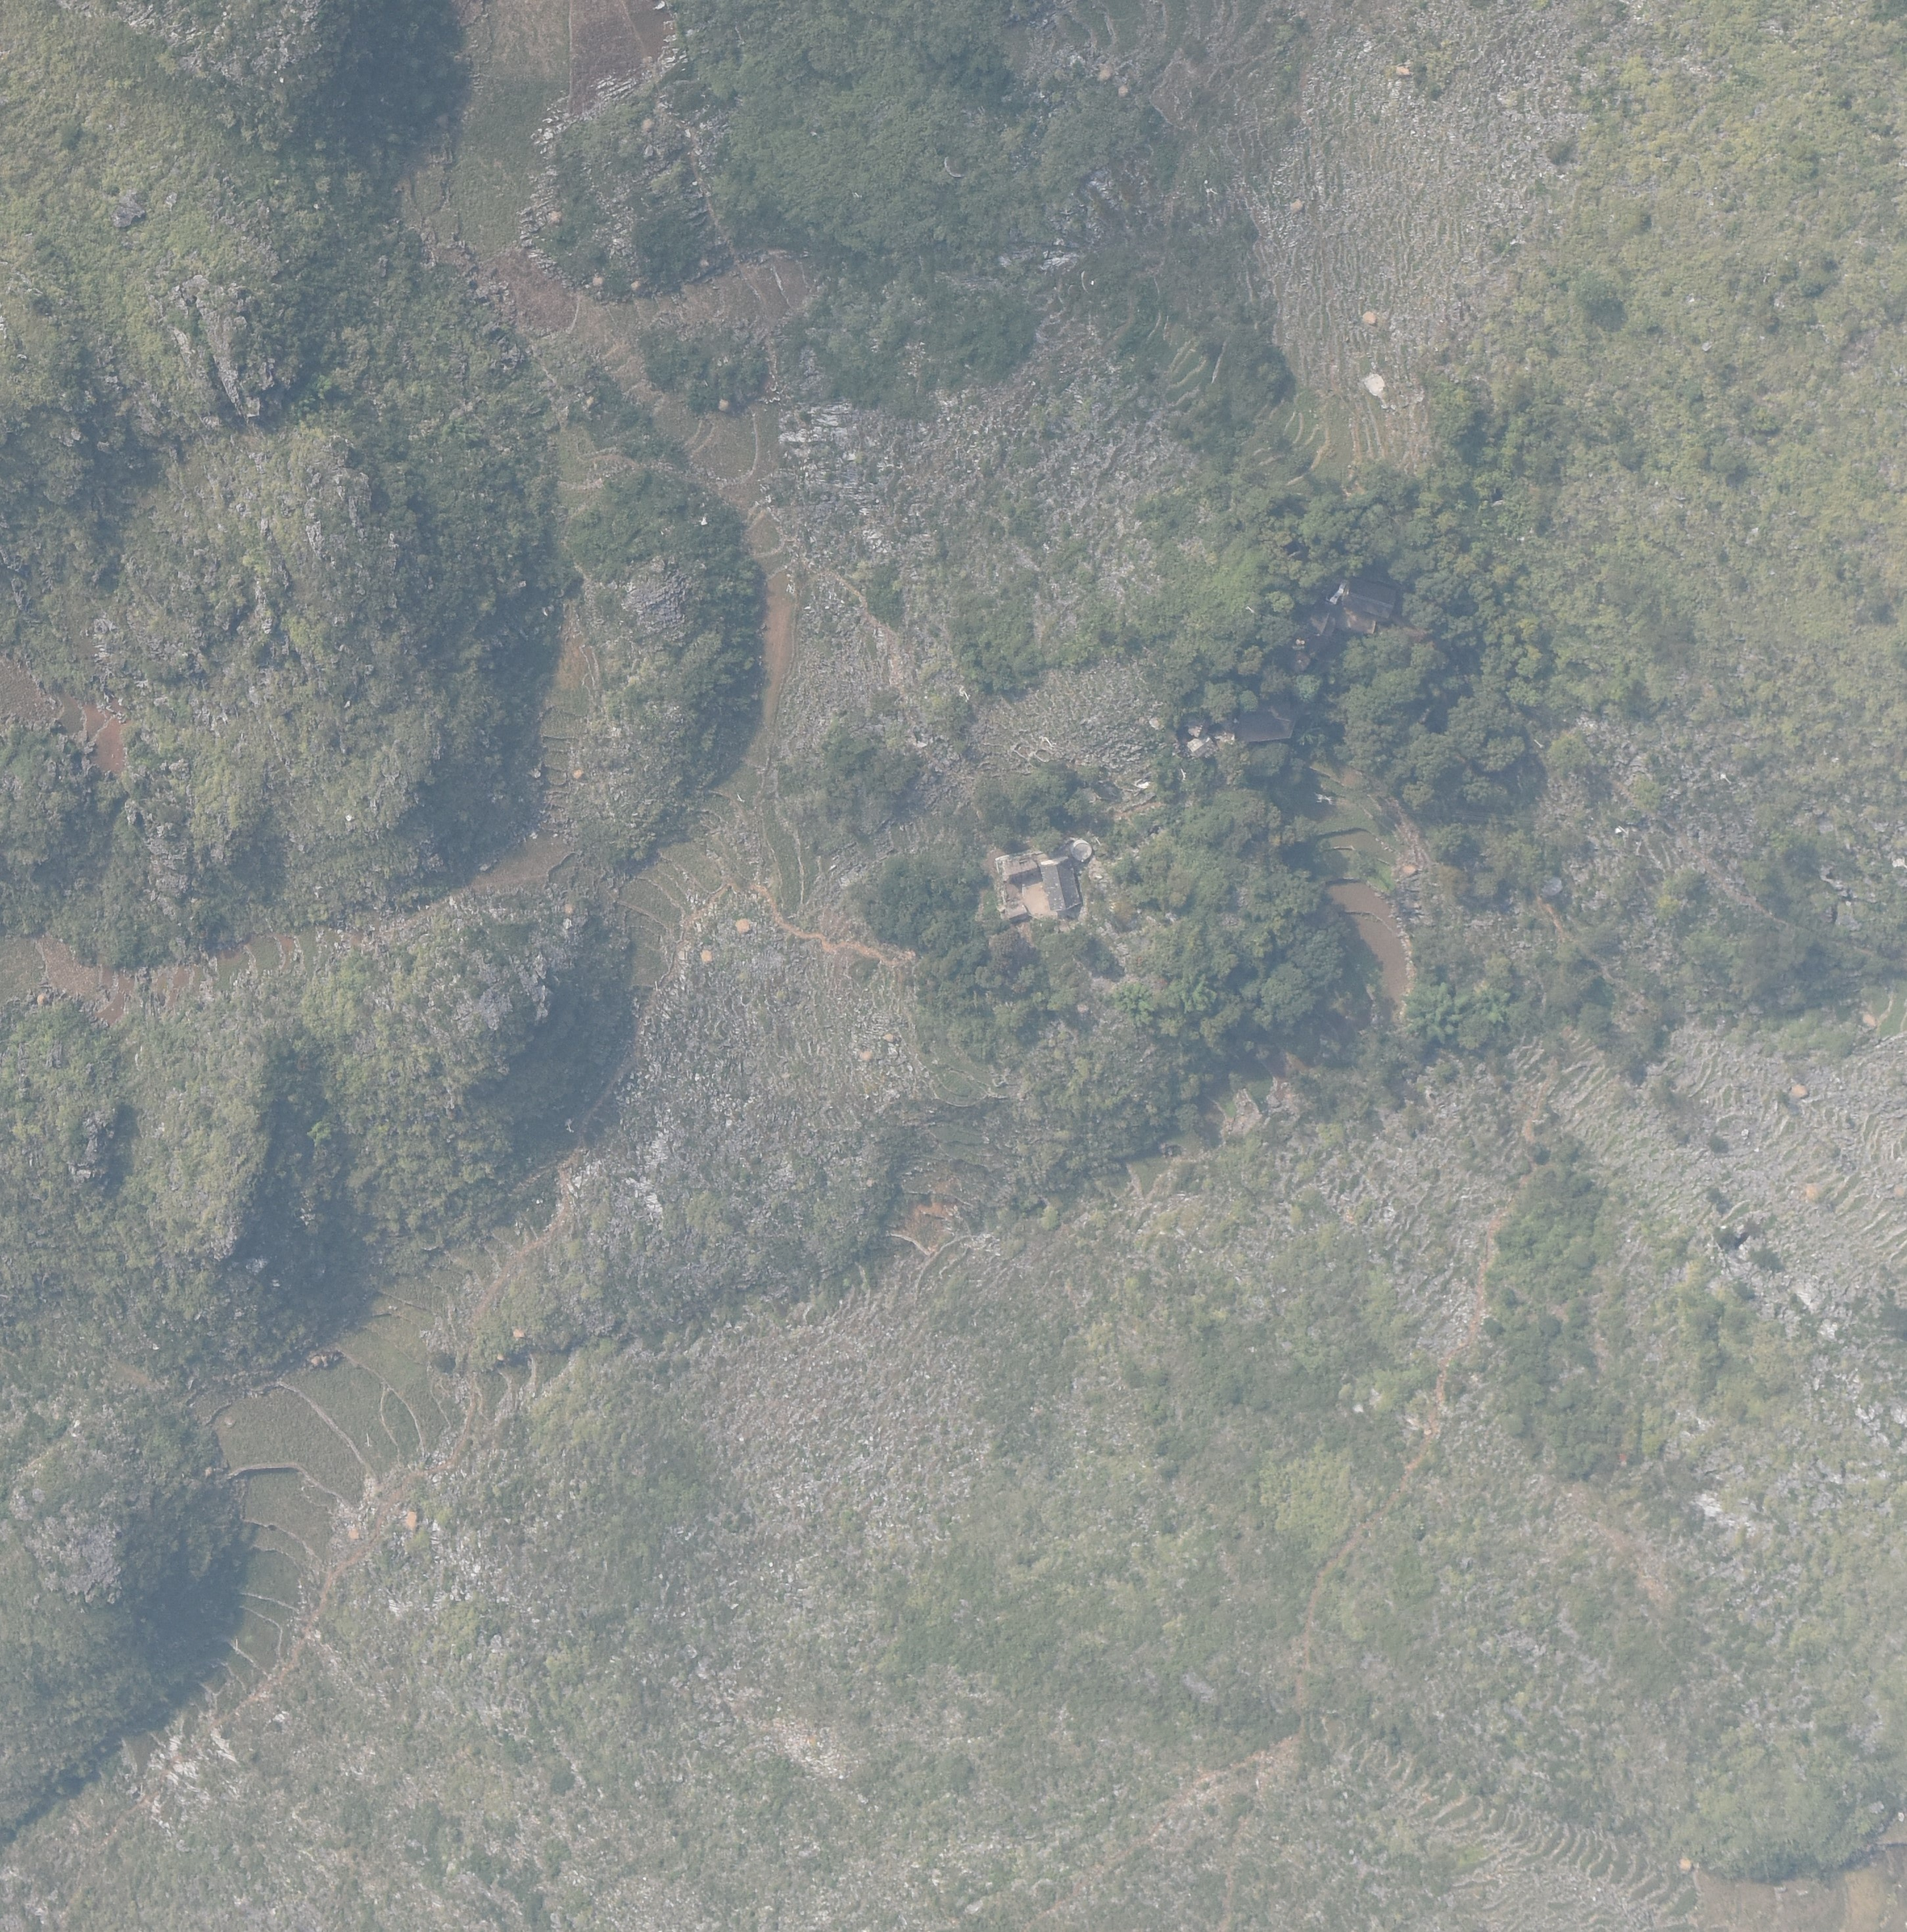building: (1039, 857, 1082, 912), (1344, 578, 1397, 621), (995, 849, 1047, 875), (1189, 736, 1215, 757)
well: (1070, 840, 1091, 861)
